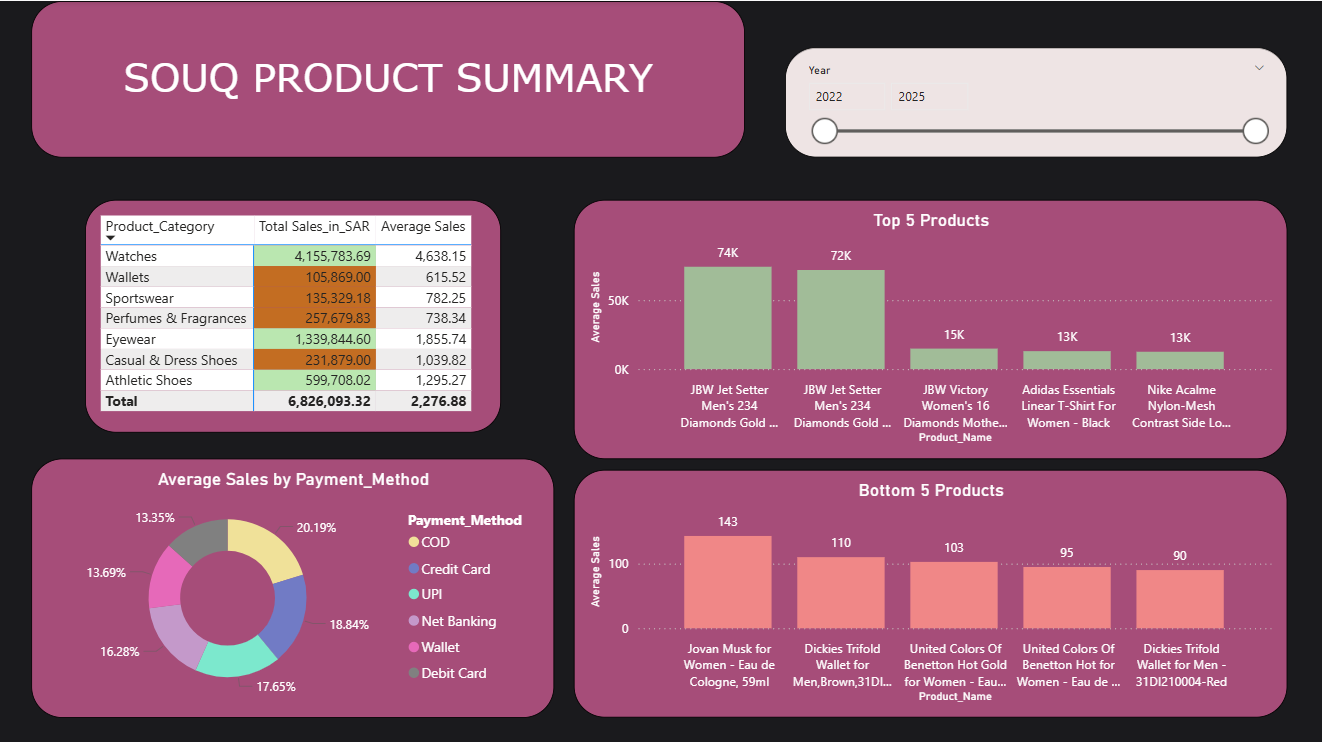

This screenshot's page, from the dashboard's own definition file:
{"tool":"powerbi","page":{"name":"Product Summary 2","canvas":[1280,720],"ordinal":2},"visuals":[{"type":"textbox","box":[29.9,0,688.8,151.2],"z":4000},{"type":"columnChart","title":"Top 5 Products","fields":{"Y":["_Measures.Average Sales"],"Category":["Products.Product_Name"]},"box":[554,191.7,688.8,250.1],"z":5000},{"type":"columnChart","title":"Bottom 5 Products","fields":{"Y":["_Measures.Average Sales"],"Category":["Products.Product_Name"]},"box":[554,452.2,688.8,239.6],"z":7001},{"type":"pivotTable","title":"Top 5 Products","fields":{"Values":["Sum(Orders.Sales_in_SAR)","_Measures.Average Sales"],"Rows":["Products.Product_Category"]},"box":[82.4,191.7,401.3,224.6],"z":7002},{"type":"donutChart","fields":{"Y":["_Measures.Average Sales"],"Category":["Orders.Payment_Method"]},"box":[29.9,441.7,504.6,250.1],"z":7003},{"type":"slicer","fields":{"Values":["Orders.Order_Date.Variation.Date Hierarchy.Year"]},"box":[757.7,44.9,485.2,106.3],"z":7004}]}

Visuals, with their boxes in screenshot pixels (x1, y1, x2, y2), scaled from the page's 1280x720 canvas onto the 1322x742 screenshot:
textbox: (31, 0, 742, 156)
"Top 5 Products" columnChart: (572, 198, 1284, 455)
"Bottom 5 Products" columnChart: (572, 466, 1284, 713)
"Top 5 Products" pivotTable: (85, 198, 500, 429)
donutChart - _Measures.Average Sales x Orders.Payment_Method: (31, 455, 552, 713)
slicer - Orders.Order_Date.Variation.Date Hierarchy.Year: (783, 46, 1284, 156)
